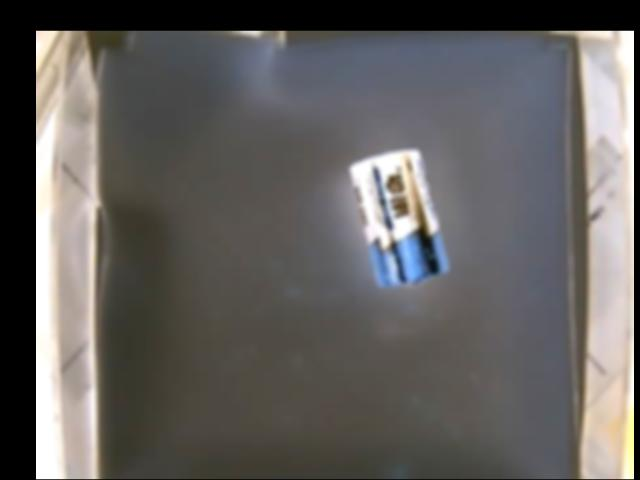Battery: (348, 149, 450, 288)
